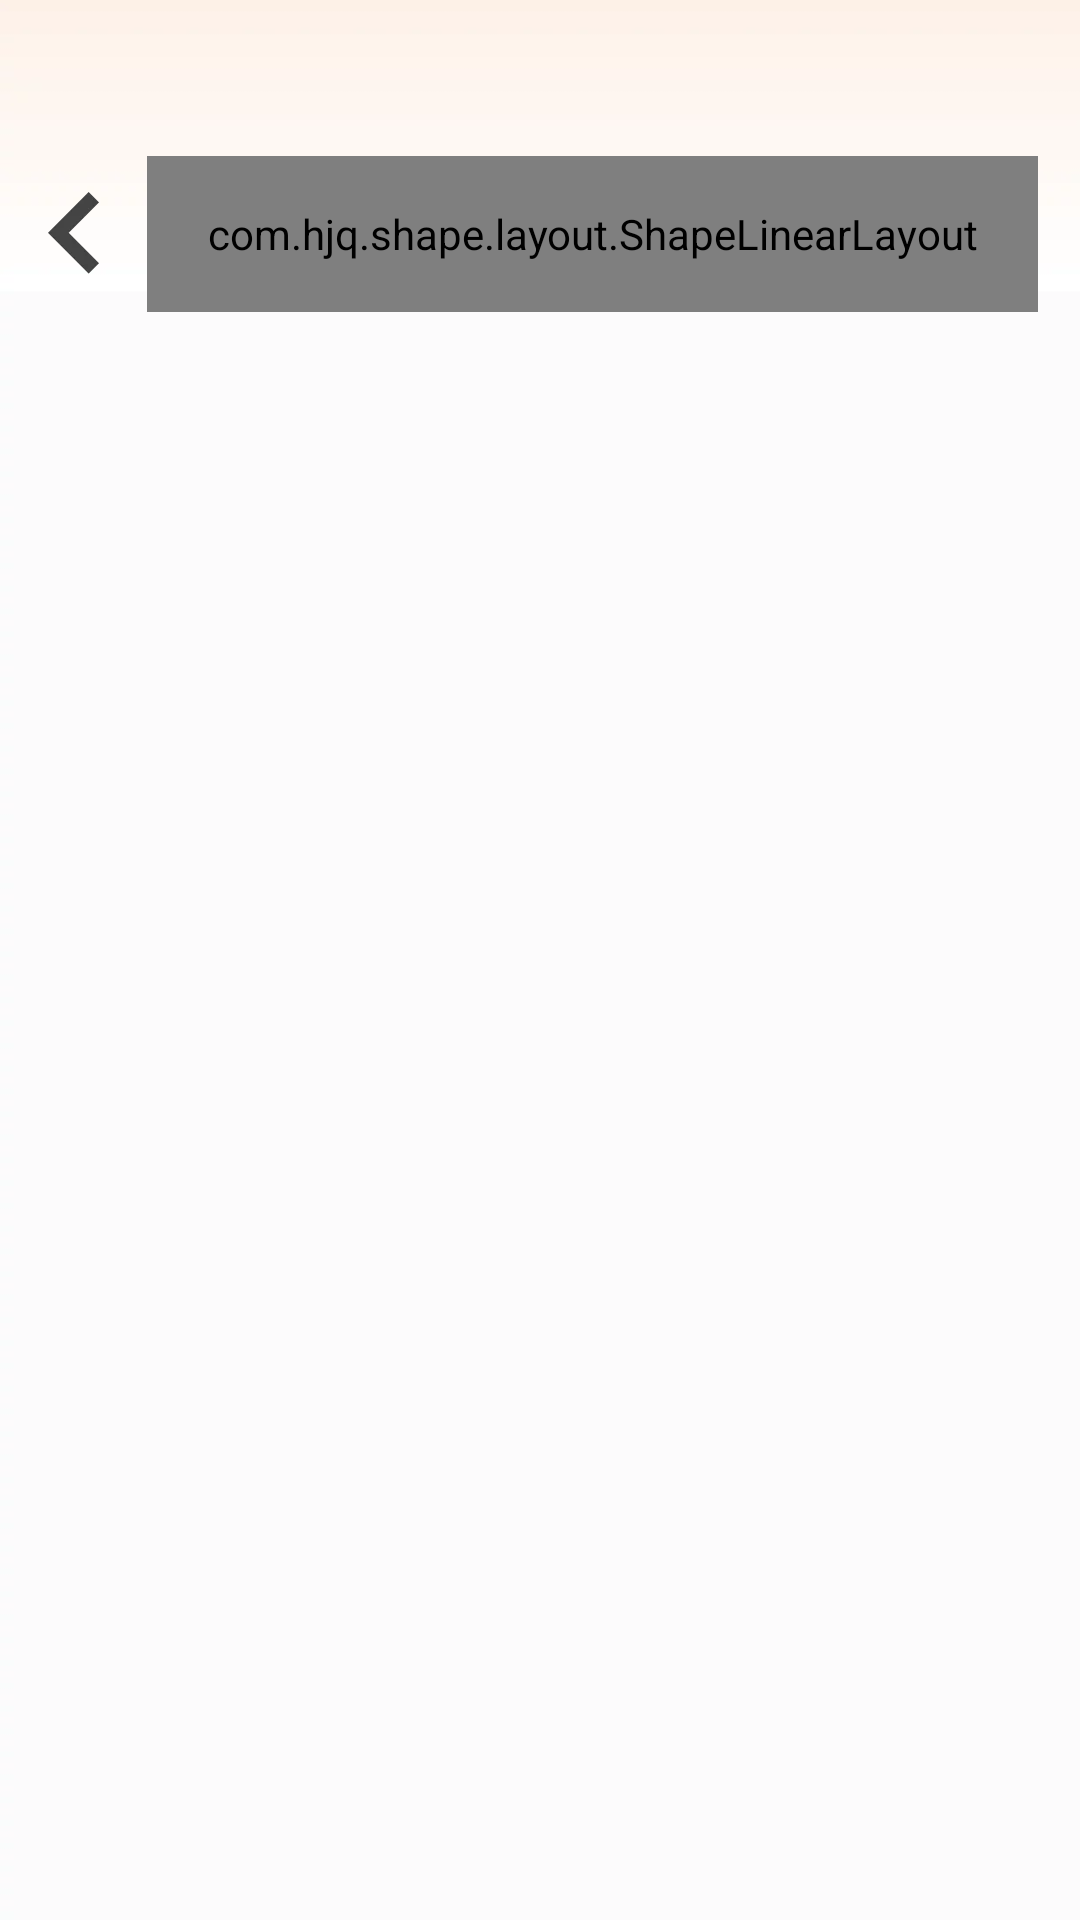

Screen size 1080 x 1920. Icon name, then its box in pixels as (x1, y1, x2, y2):
back: (48, 192, 99, 274)
